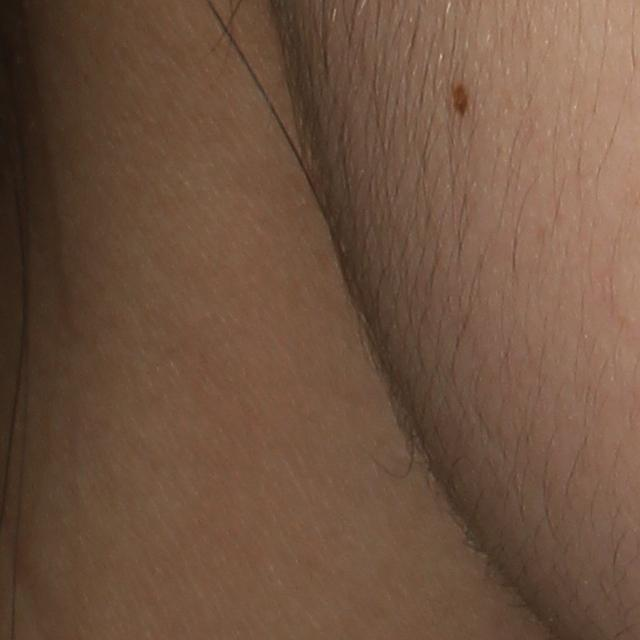nevus: (450, 81, 468, 111)
